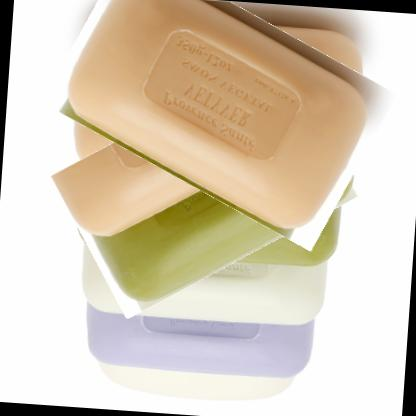soap: (46, 0, 392, 229), (55, 60, 368, 304)
